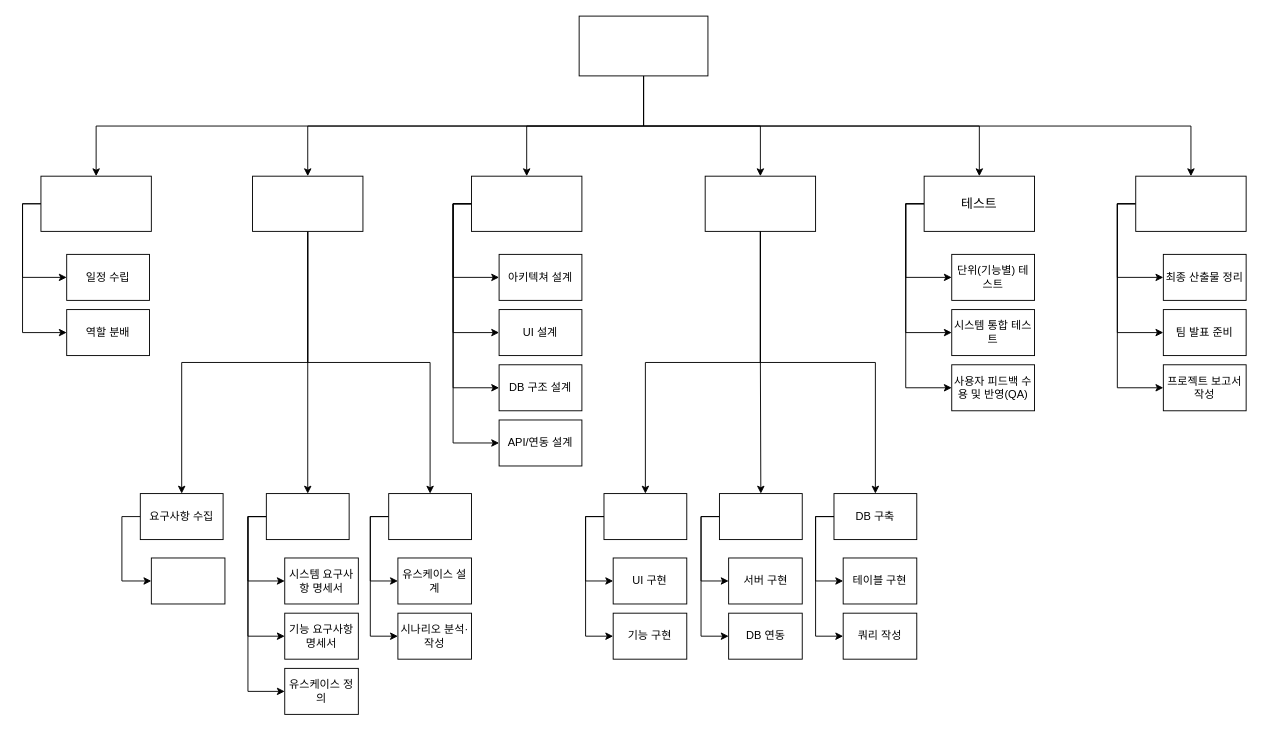
The diagram is 1262 pixels wide and 730 high, and some of its shapes have lost their labels. The shapes that lost their labels are listed below. From the top down, each one's centre as x and y in pixels, then its label:
At (x=643, y=45): "교내 학습공간 예약 시스템".
At (x=95, y=203): "프로젝트 관리".
At (x=307, y=203): "요구 분석".
At (x=526, y=203): "시스템 설계".
At (x=760, y=203): "개발".
At (x=1190, y=203): "결과 발표".
At (x=307, y=516): "요구사항 명세서 작성".
At (x=430, y=516): "UML 다이어그램".
At (x=645, y=516): "프론트엔드 개발".
At (x=760, y=516): "백엔드 개발".
At (x=187, y=580): "학생 인터뷰 기록".
